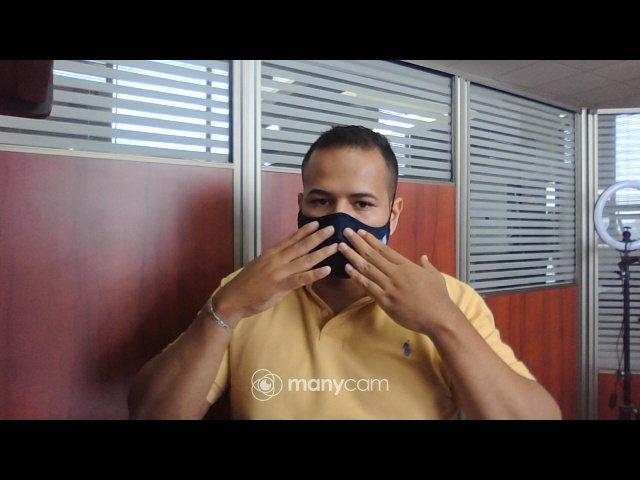Thanks: (221, 219, 471, 332)
